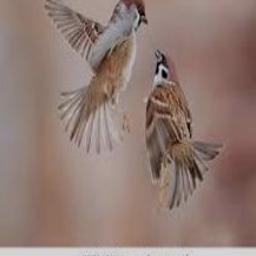Sparrow: (44, 0, 149, 156), (146, 48, 227, 208)
